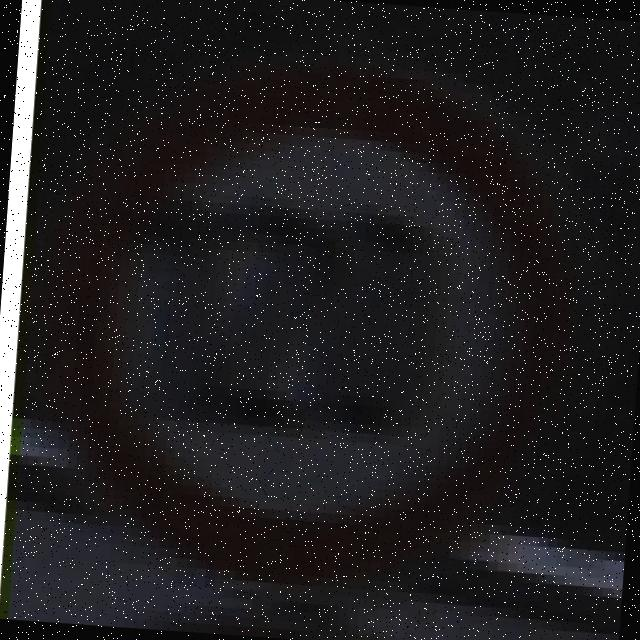Ograniczenie predkosci do 120: (38, 38, 595, 602)
